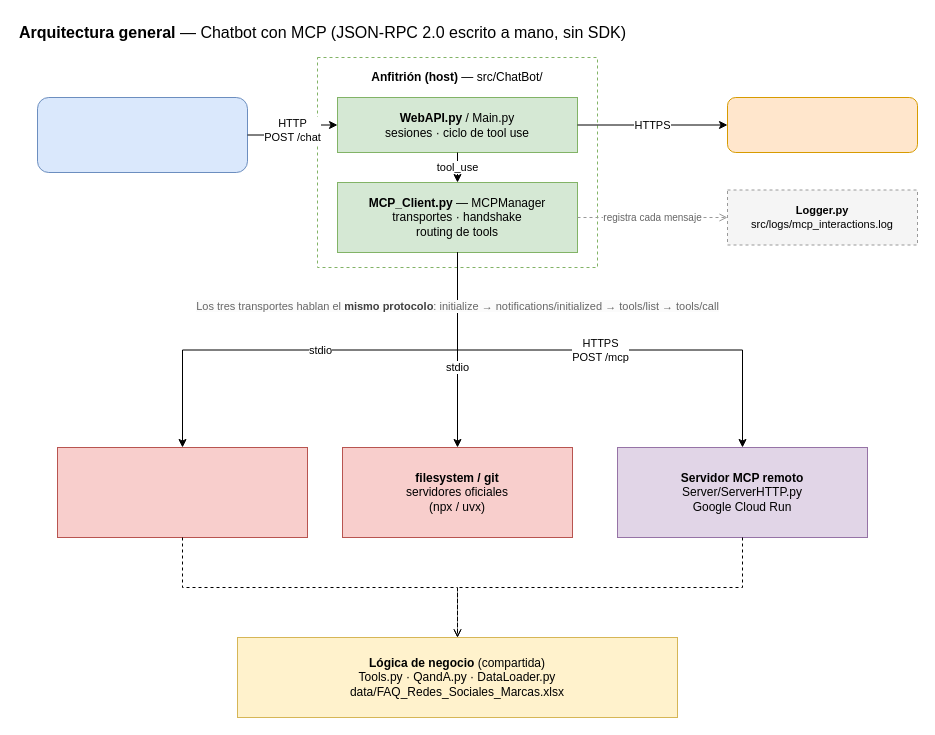
This 935x735 diagram has some shape labels left out. Here are the shapes that lost their labels. From the top down, the centre of each, then its label:
the point at 142,134: React widget ChatWidget.jsx · MessageBubble.jsx markdown + chips de tools
the point at 822,124: API de Anthropic Claude (tool use)
the point at 182,492: Servidor MCP local Server.py · MethodHandlers.py Json_RPC_Plumbing.py
